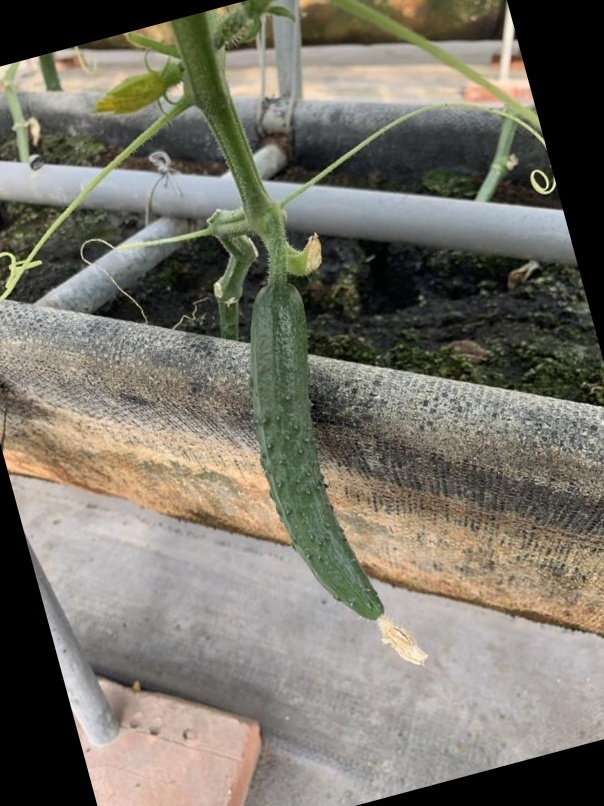mature: (240, 278, 395, 639)
